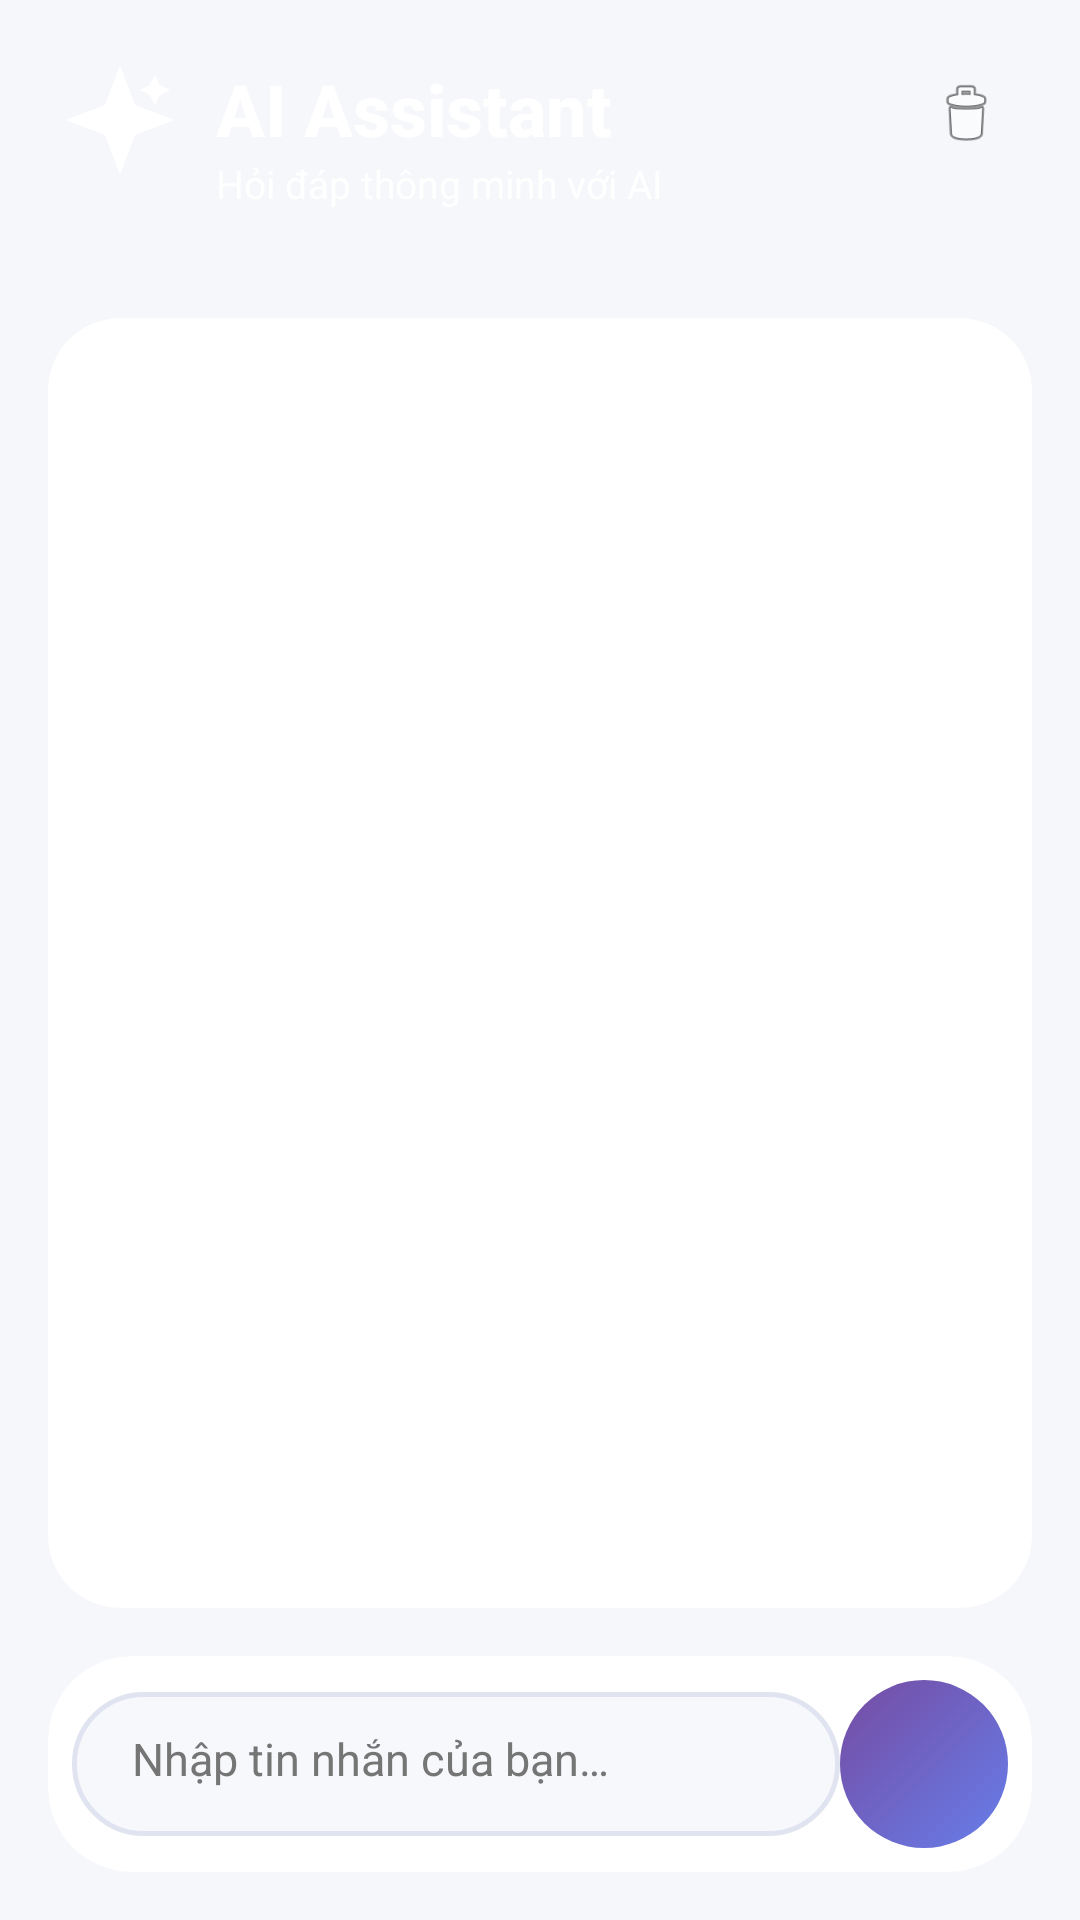

Point at icon controls on the screen. Image size 1080x1920, points as (x,y).
Clear chat: (966,113)
